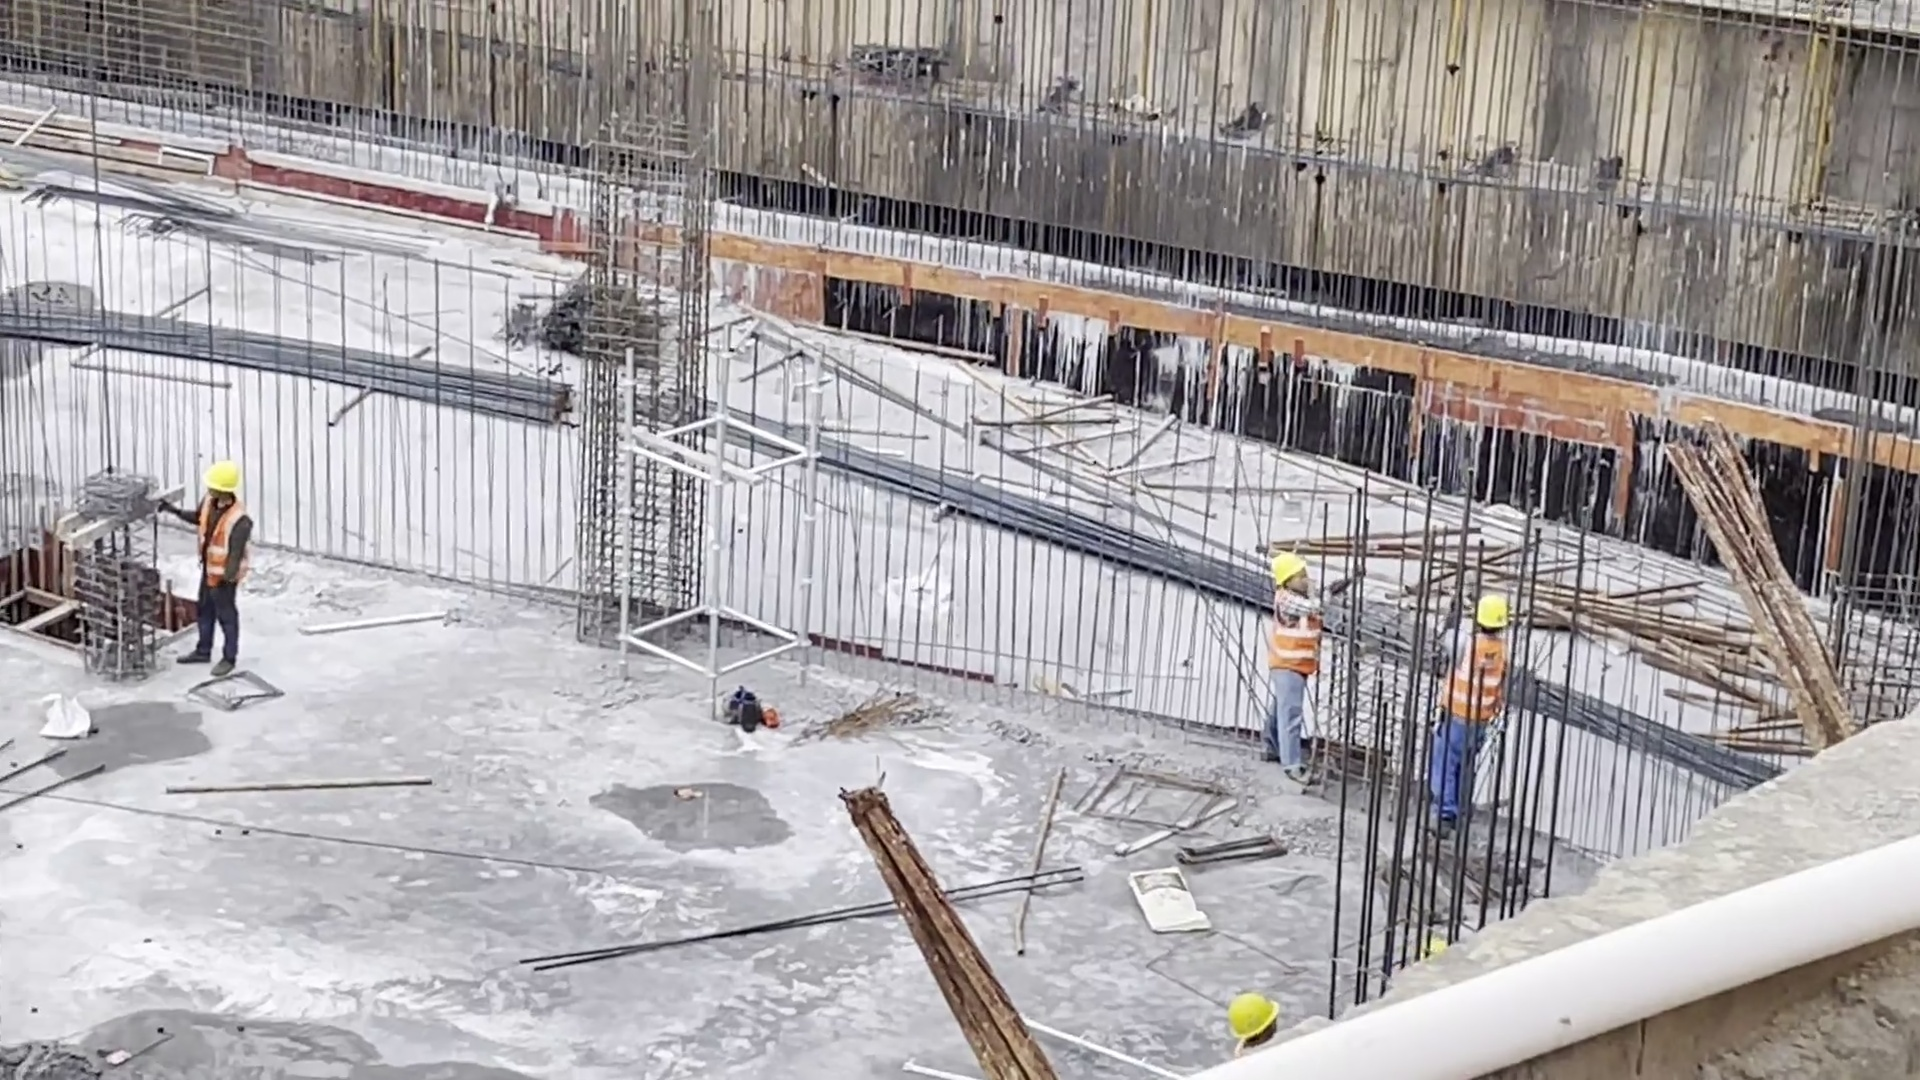helmet: (1214, 976, 1288, 1041), (1465, 586, 1532, 636), (201, 454, 242, 495), (1265, 549, 1313, 583)
person: (1255, 545, 1342, 779), (1443, 581, 1513, 839), (172, 457, 251, 684)
vest: (191, 492, 251, 591), (1453, 632, 1504, 731), (1272, 596, 1326, 682)
